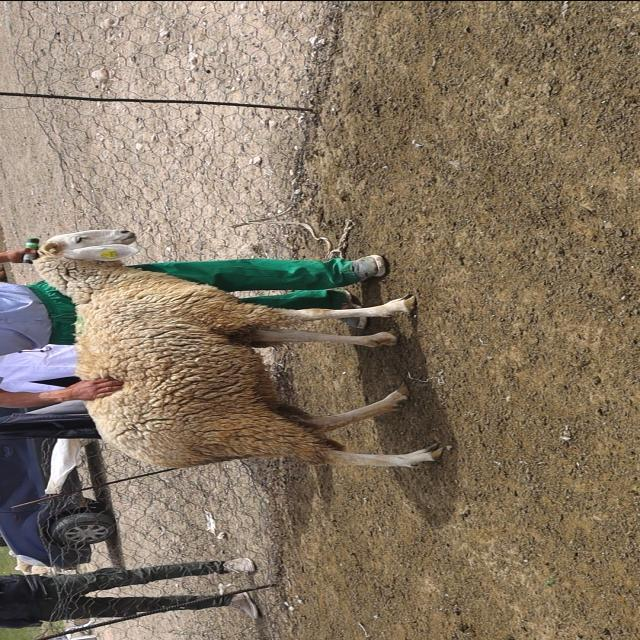Score_2: (35, 229, 443, 467)
